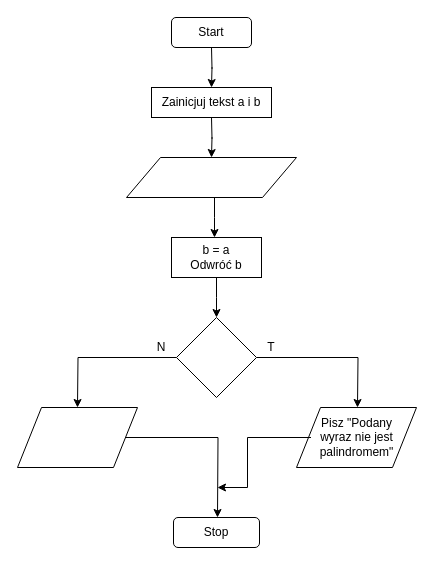
Some shapes in this 434 by 565 pixel diagram are drawn without their labels. Each missing label, with the centre of its shape:
a != b: (x=216, y=357)
Pisz "Podaj wyraz: " Czytaj a: (x=211, y=177)
Pisz "Podany wyraz jest palindromem": (x=77, y=437)
